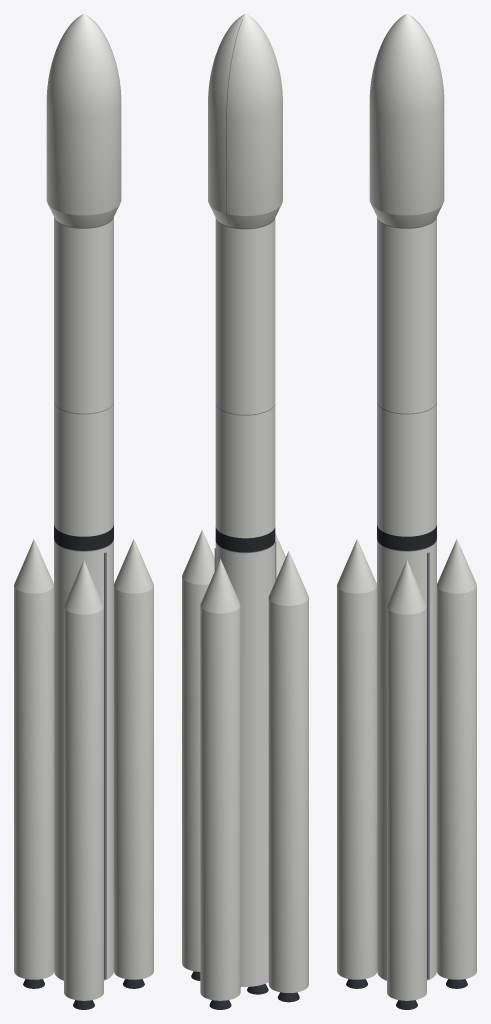
3 views of the same model, side by side, from view 1: azimuth 90°, elevation 25°; view 2: azimuth 150°, elevation 25°; view 3: azimuth 270°, elevation 25° (orthographic).
Parts seen in each view (by area): view 1: lm7a; view 2: lm7a; view 3: lm7a.
Part boxes in pixels (box(x1,y1,x2,y2)): lm7a: box(14, 14, 153, 1009); lm7a: box(182, 14, 308, 1009); lm7a: box(337, 14, 476, 1009).
Size of the model in its own units: 7.85 by 60.1 by 7.85.
Materials: 1 (1 with a texture image).
